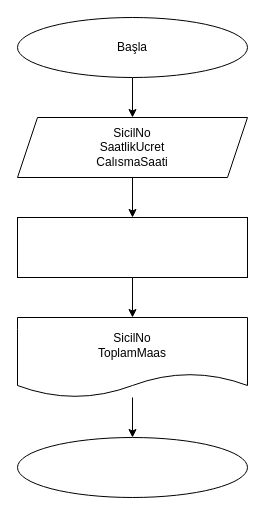
Image size: 265x515. Some labels were removed from this diagram. The centre of each missing label's shape, as x and y in pixels:
"Dur" goes at pixel 132 467.
"ToplamMaas=SaatlikUcret*CalısmaSaati" goes at pixel 132 247.
